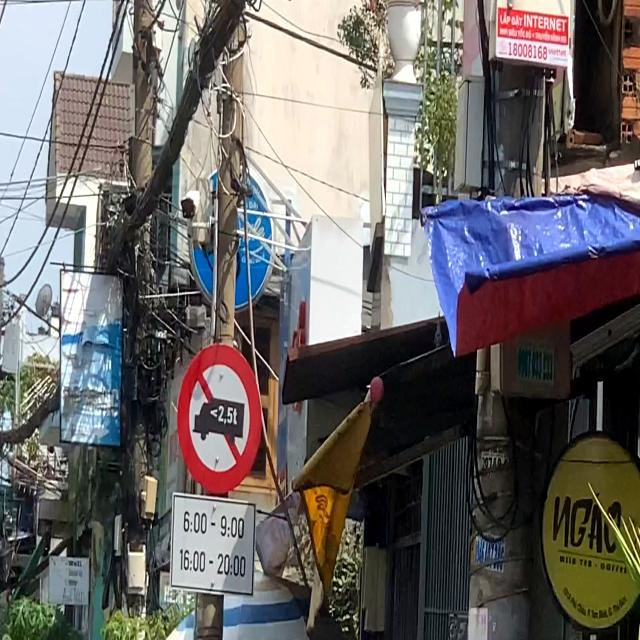P.106b: (176, 344, 263, 496)
